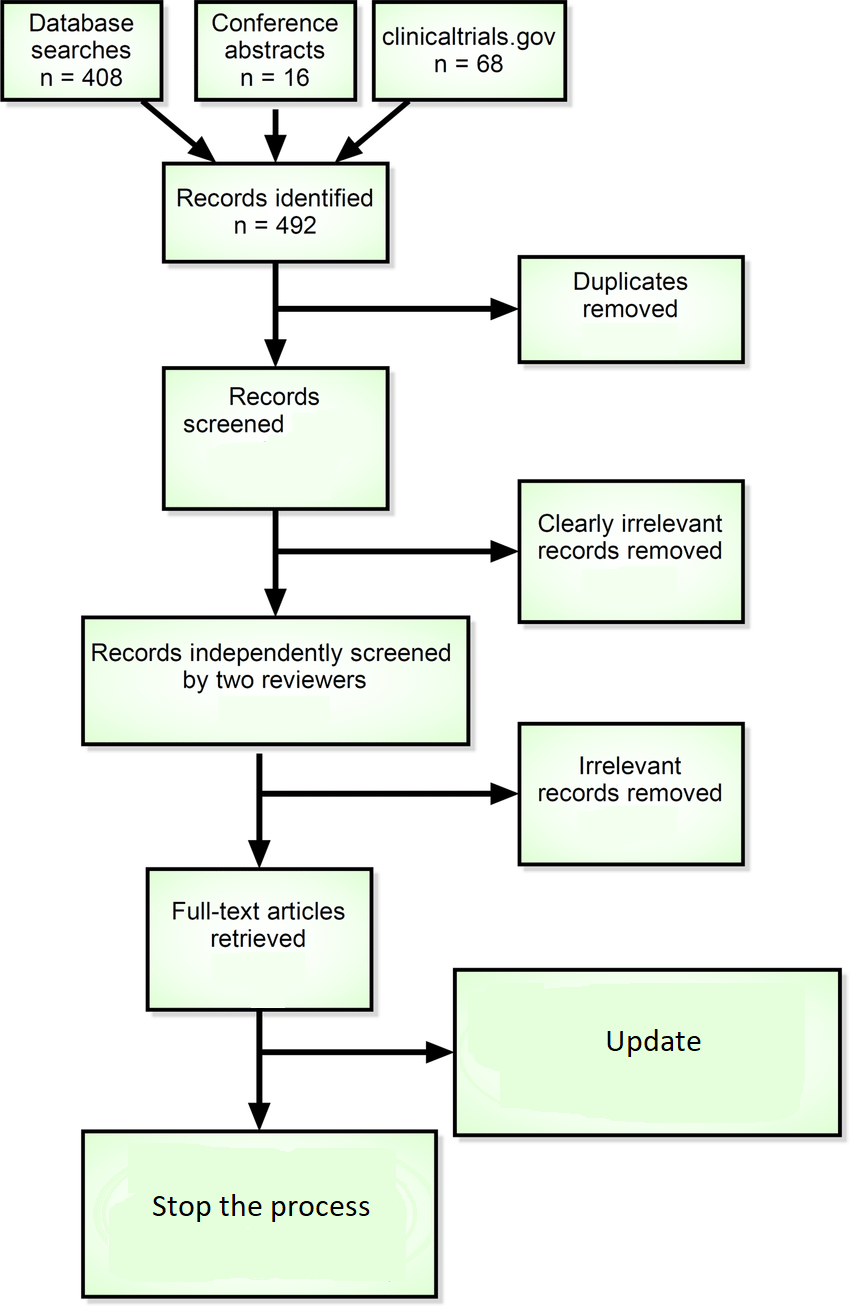arrow: (274, 292, 524, 330), (260, 778, 522, 808), (274, 538, 518, 568), (262, 1038, 454, 1068), (330, 102, 422, 164), (140, 98, 224, 160), (242, 1012, 272, 1136), (254, 260, 286, 364), (246, 748, 272, 868), (262, 510, 288, 622), (260, 110, 292, 168)
process: (448, 962, 850, 1142), (72, 1120, 450, 1306), (74, 610, 478, 752), (154, 358, 402, 520), (138, 860, 386, 1020), (510, 474, 754, 632), (512, 714, 752, 872), (510, 248, 756, 374), (158, 158, 396, 272), (366, 1, 574, 108), (188, 1, 366, 110), (2, 1, 170, 110)
text: (86, 636, 454, 696), (534, 504, 732, 570), (172, 178, 378, 240), (532, 746, 726, 808), (378, 18, 560, 82), (204, 10, 348, 90), (166, 894, 356, 954), (18, 8, 150, 90), (180, 378, 328, 444), (562, 262, 692, 324), (144, 1192, 374, 1222), (600, 1020, 704, 1062)
